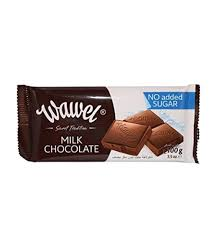Chocolate: (18, 81, 201, 167)
